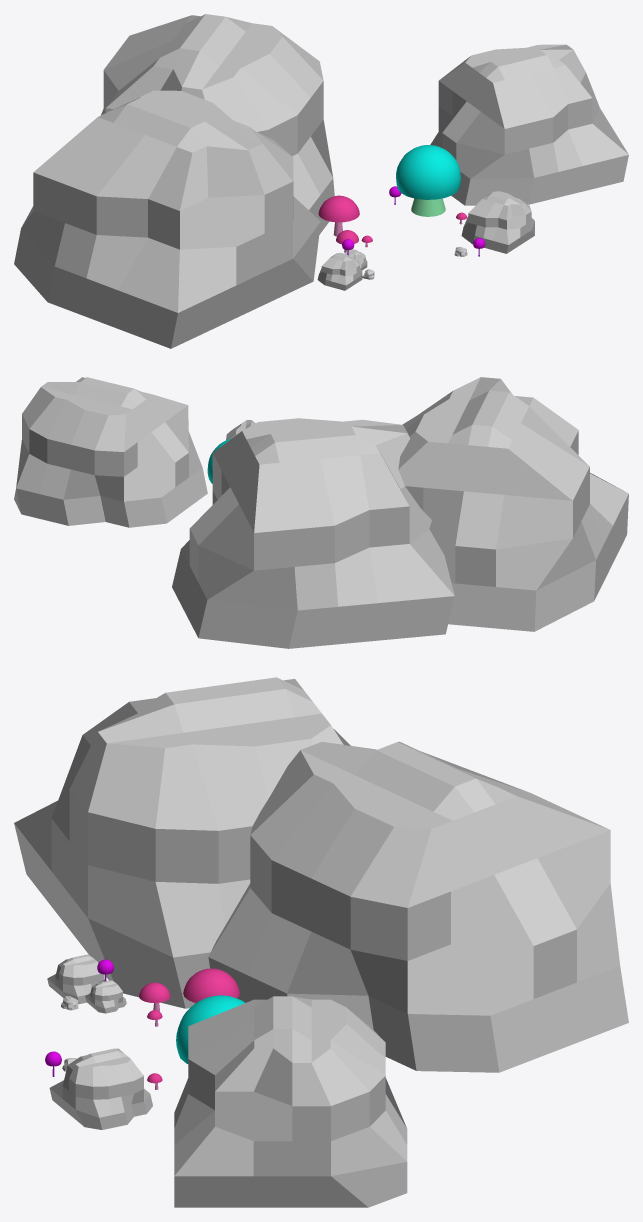
File: caveScene.fbx
The picture shows the model from 3 angles, top to bottom: view 1: azimuth 30°, elevation 25°; view 2: azimuth 150°, elevation 25°; view 3: azimuth 270°, elevation 25°; orthographic projection. The views are drawn at different scales.
Parts seen in each view (by area): view 1: pCube2, pCube4, pCube9, pCube1, pSphere2, pCube6, pSphere4, pCylinder1; view 2: pCube9, pCube2, pCube4; view 3: pCube9, pCube2, pCube4, pCube1, pCube6, pSphere2, pSphere4, pCube5.
Boxes of the visible parts, x1=… form: pCube2: x1=14, y1=90, x2=320, y2=348; pCube4: x1=430, y1=44, x2=628, y2=205; pCube9: x1=101, y1=14, x2=334, y2=234; pCube1: x1=461, y1=191, x2=534, y2=253; pSphere2: x1=396, y1=145, x2=460, y2=199; pCube6: x1=317, y1=252, x2=362, y2=290; pSphere4: x1=318, y1=195, x2=359, y2=222; pCylinder1: x1=411, y1=198, x2=445, y2=216; pCube9: x1=172, y1=418, x2=454, y2=648; pCube2: x1=398, y1=377, x2=628, y2=631; pCube4: x1=14, y1=377, x2=207, y2=527; pCube9: x1=208, y1=741, x2=628, y2=1072; pCube2: x1=14, y1=677, x2=350, y2=1008; pCube4: x1=174, y1=996, x2=407, y2=1207; pCube1: x1=49, y1=1048, x2=152, y2=1129; pCube6: x1=47, y1=954, x2=106, y2=1004; pSphere2: x1=176, y1=995, x2=245, y2=1063; pSphere4: x1=183, y1=968, x2=239, y2=1002; pCube5: x1=85, y1=980, x2=126, y2=1013.
Size of what is drawn, in the model's own units: 9.72 by 2.78 by 6.78.
